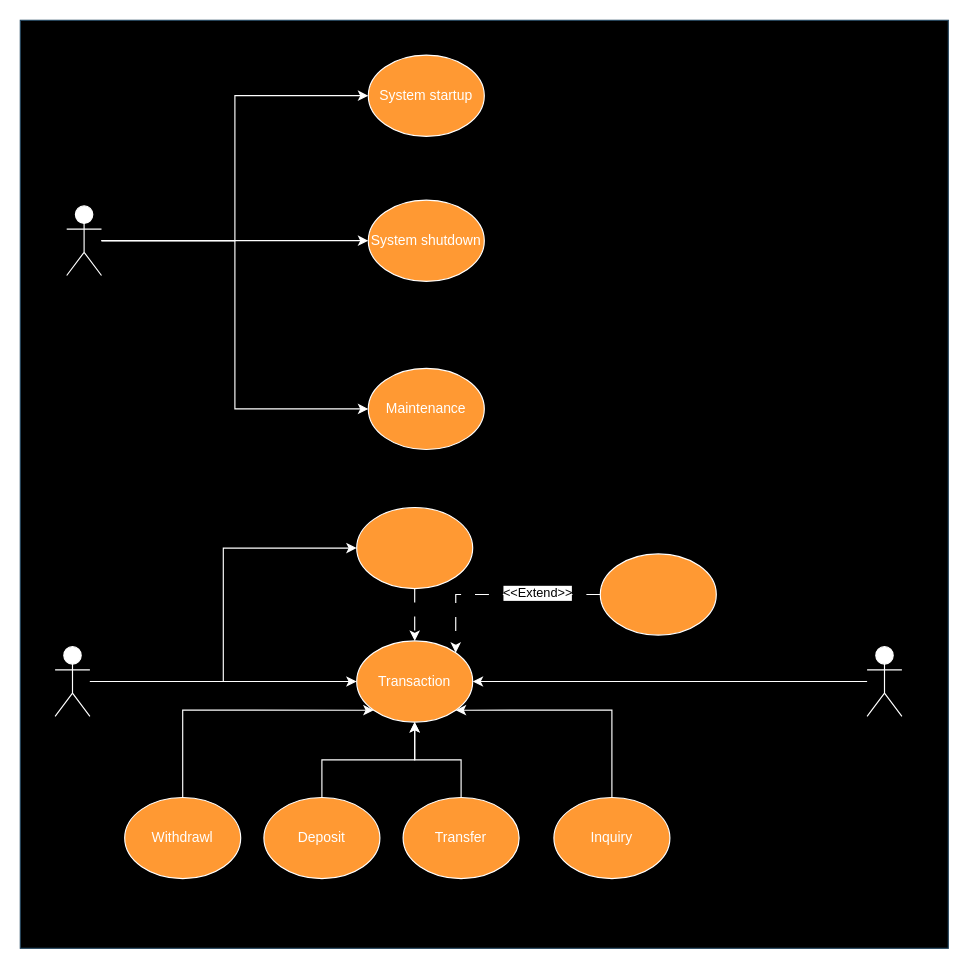
The diagram is 969 pixels wide and 969 high, and some of its shapes have lost their labels. The box of each missing label's shape, as (x1, y1, x2, y2) in pixels:
Bank: (866, 646, 902, 716)
Customer: (54, 646, 90, 716)
Invalid PIN: (599, 553, 716, 635)
Operator: (66, 205, 102, 276)
Session: (356, 506, 473, 589)
